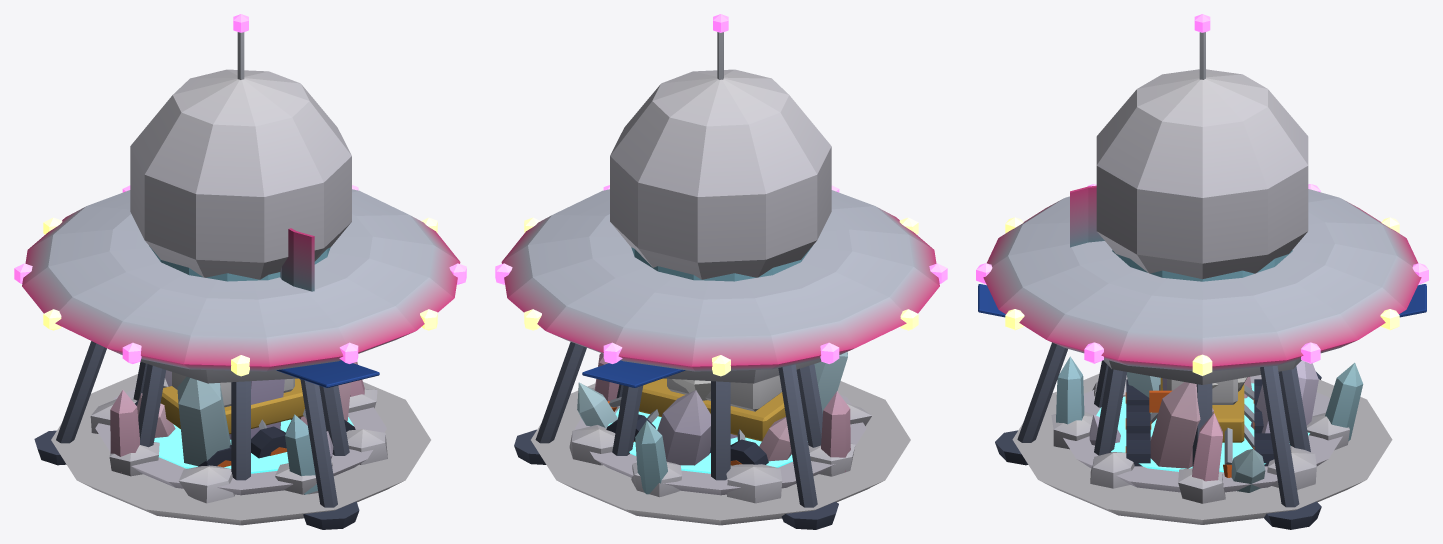
The model's file is scenery-salt.glb.
3 views of the same model, side by side, from view 1: azimuth 30°, elevation 25°; view 2: azimuth 150°, elevation 25°; view 3: azimuth 270°, elevation 25° (orthographic).
Parts seen in each view (by area): view 1: prop-ufo, prop-radar_dome, prop-geyser_pool, prop-salt_crystal, prop-rover, prop-flag; view 2: prop-ufo, prop-radar_dome, prop-geyser_pool, prop-salt_crystal, prop-rover; view 3: prop-ufo, prop-radar_dome, prop-geyser_pool, prop-salt_crystal, prop-rover, prop-flag.
Boxes of the visible parts, x1,y1,x2,y2 form: prop-ufo: (14, 185, 466, 529); prop-radar_dome: (130, 14, 379, 480); prop-geyser_pool: (51, 362, 430, 525); prop-salt_crystal: (137, 370, 351, 465); prop-rover: (135, 372, 355, 467); prop-flag: (280, 228, 314, 291); prop-ufo: (495, 185, 947, 529); prop-radar_dome: (582, 14, 831, 480); prop-geyser_pool: (531, 353, 910, 525); prop-salt_crystal: (577, 352, 847, 465); prop-rover: (606, 375, 785, 465); prop-ufo: (976, 184, 1428, 529); prop-radar_dome: (978, 14, 1426, 467); prop-geyser_pool: (1012, 356, 1392, 524); prop-salt_crystal: (1089, 360, 1318, 492); prop-rover: (1125, 378, 1274, 477); prop-flag: (1070, 185, 1104, 247).
Size of the model in its own units: 10.22 by 11.27 by 10.24.
